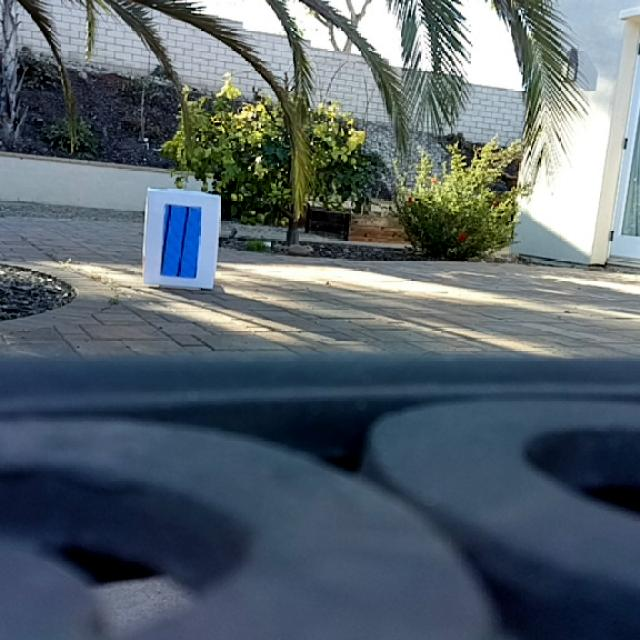led: (162, 203, 200, 279)
